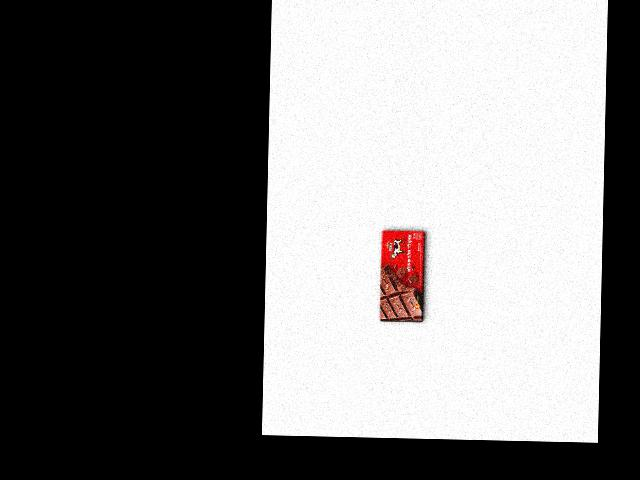chocolate: (377, 227, 428, 324)
